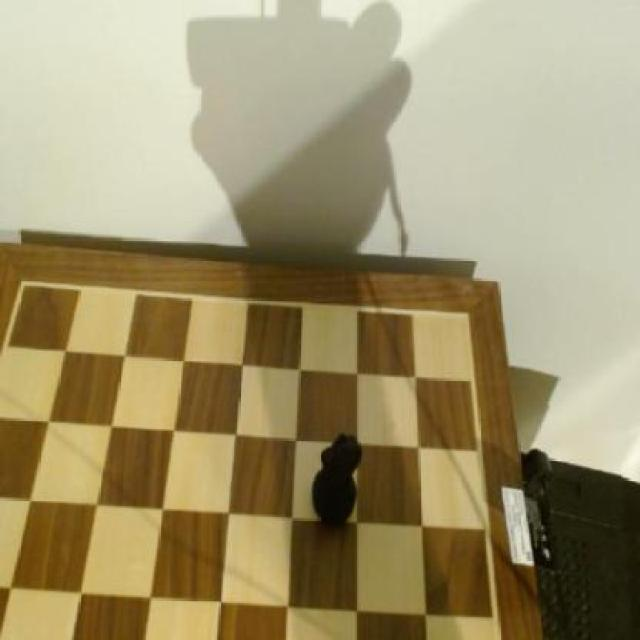black-king: (308, 420, 365, 545)
